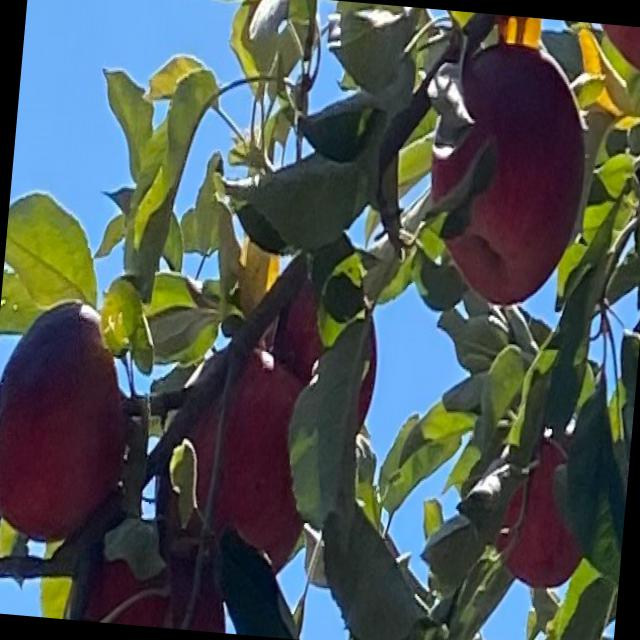Apples: (424, 40, 595, 302), (153, 338, 316, 580), (0, 296, 135, 536), (64, 511, 238, 631), (259, 274, 385, 432), (489, 408, 597, 592), (597, 23, 639, 78)
